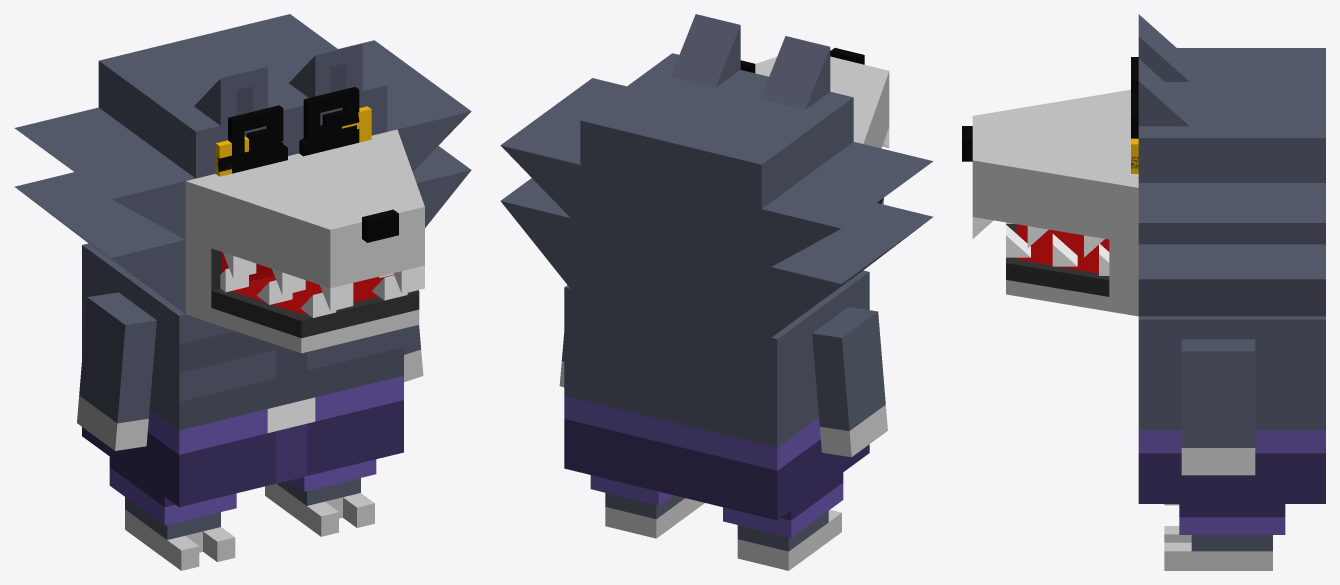
The picture shows the model from 3 angles, left to right: view 1: azimuth 30°, elevation 25°; view 2: azimuth 150°, elevation 25°; view 3: azimuth 270°, elevation 25°; orthographic projection. The views are drawn at different scales.
Parts seen in each view (by area): view 1: Ch_44_Head, Ch_44, Ch_44_Hand_L, Ch_44_Leg_L, Ch_44_Leg_R, Ch_44_Eye_03_R, Ch_44_Eye_03_L, Ch_44_Eye_01, Ch_44_Hand_R, Ch_44_Eye_02; view 2: Ch_44_Head, Ch_44, Ch_44_Hand_L, Ch_44_Leg_L, Ch_44_Leg_R; view 3: Ch_44_Head, Ch_44, Ch_44_Hand_R, Ch_44_Leg_R.
Part boxes in pixels (<box>): Ch_44_Head: <box>14,14,471,353</box>; Ch_44: <box>82,243,403,507</box>; Ch_44_Hand_L: <box>77,292,156,450</box>; Ch_44_Leg_L: <box>109,457,236,570</box>; Ch_44_Leg_R: <box>265,459,376,536</box>; Ch_44_Eye_03_R: <box>303,87,359,154</box>; Ch_44_Eye_03_L: <box>228,105,283,173</box>; Ch_44_Eye_01: <box>215,106,371,176</box>; Ch_44_Hand_R: <box>404,325,423,382</box>; Ch_44_Eye_02: <box>217,125,356,171</box>; Ch_44_Head: <box>500,14,933,337</box>; Ch_44: <box>564,270,869,520</box>; Ch_44_Hand_L: <box>812,307,887,457</box>; Ch_44_Leg_L: <box>723,472,843,570</box>; Ch_44_Leg_R: <box>590,475,704,538</box>; Ch_44_Head: <box>962,14,1325,316</box>; Ch_44: <box>1138,316,1325,503</box>; Ch_44_Hand_R: <box>1181,339,1255,475</box>; Ch_44_Leg_R: <box>1164,504,1285,570</box>.
Size of the model in its own units: 9.34 by 12.29 by 8.48.
